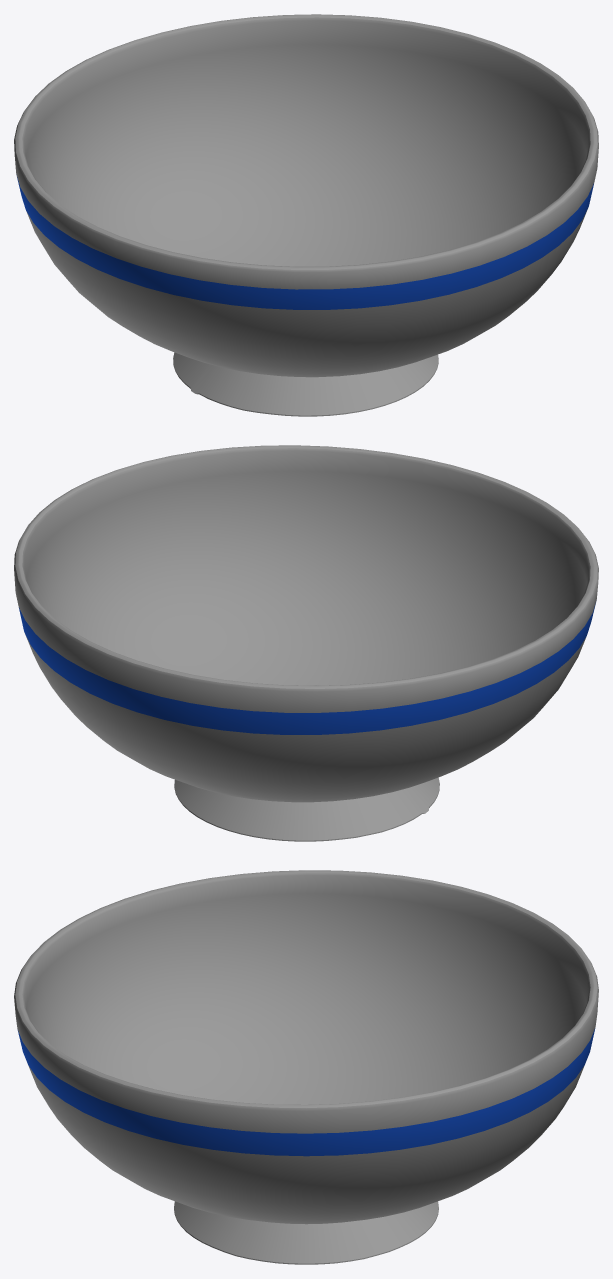
Rendered from Bowl.FBX.
3 renders of one model, top to bottom at view 1: azimuth 30°, elevation 25°; view 2: azimuth 150°, elevation 25°; view 3: azimuth 270°, elevation 25°, orthographic.
Visible parts, largest first — view 1: Sphere012; view 2: Sphere012; view 3: Sphere012.
Part boxes in pixels (x1=…): Sphere012: x1=14, y1=14, x2=598, y2=416; Sphere012: x1=14, y1=445, x2=598, y2=841; Sphere012: x1=14, y1=870, x2=598, y2=1264.
Size of the model in its own units: 472 by 202 by 472.
